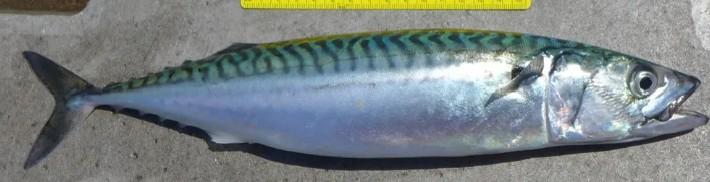fish: (24, 29, 709, 167)
